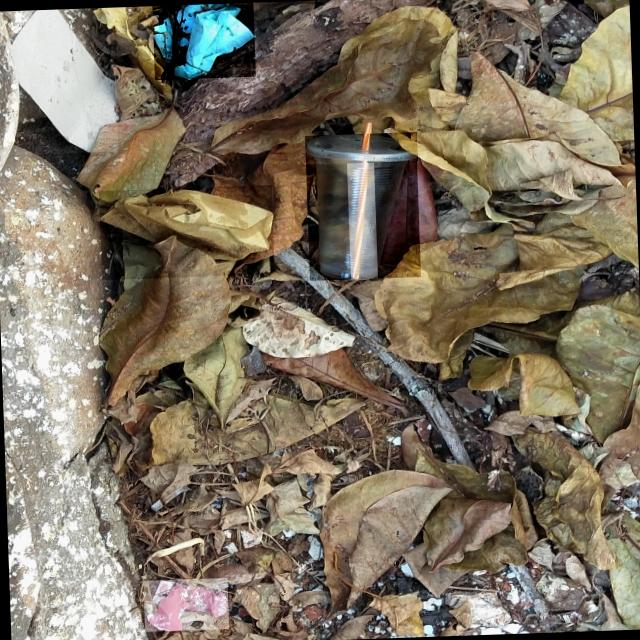Cigarette: (138, 15, 159, 30)
Cup: (306, 135, 416, 279)
Lid: (306, 135, 417, 162)
Other Carton: (12, 11, 117, 152)
Paper: (100, 189, 272, 275)
Paper bag: (153, 3, 254, 79), (145, 581, 228, 631)
Straw: (351, 122, 372, 279)
